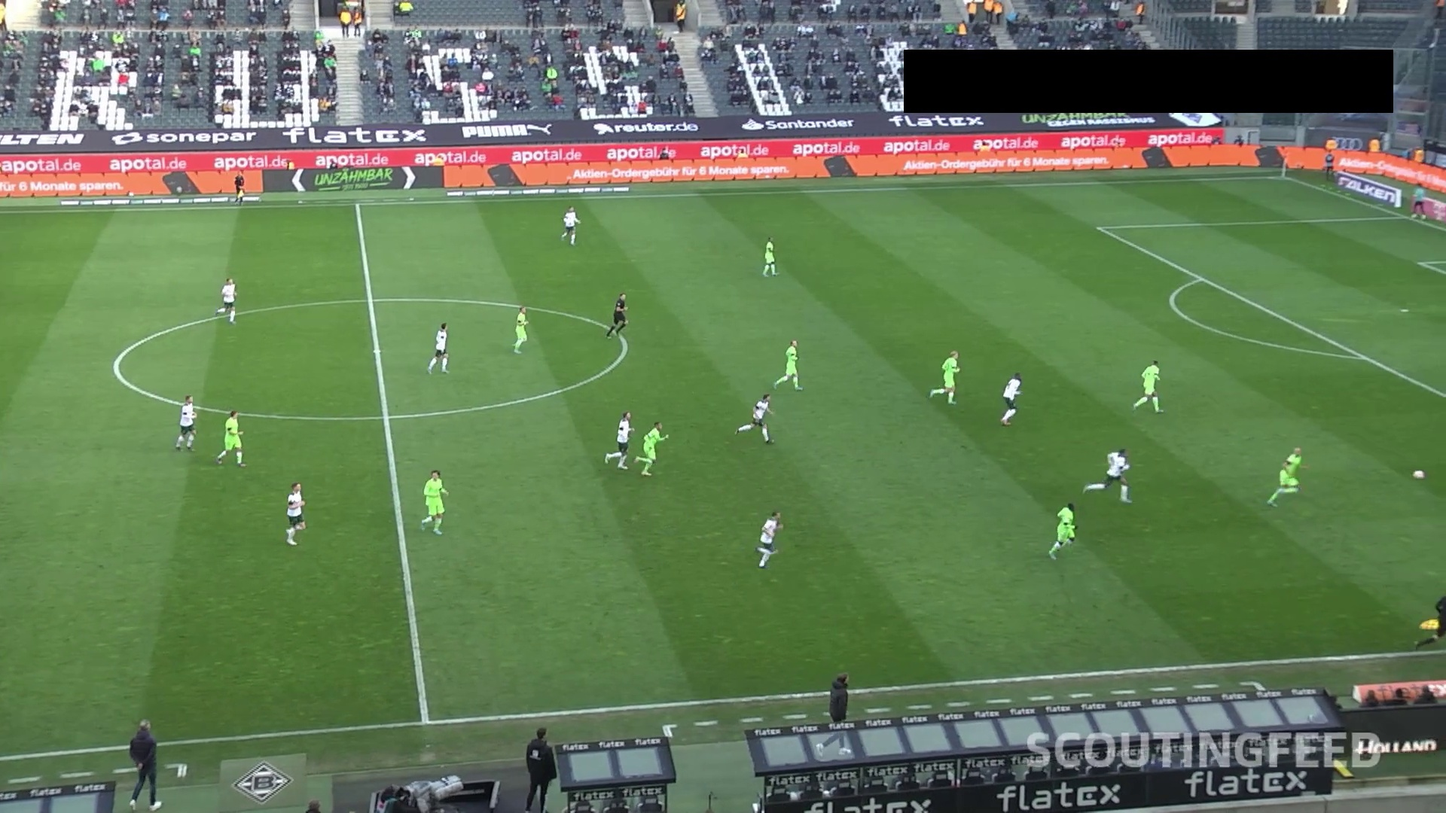ball: (1215, 520, 1244, 537)
player: (831, 203, 904, 285), (137, 220, 210, 301), (542, 285, 615, 366), (325, 447, 398, 528), (470, 528, 542, 610), (224, 163, 296, 244), (398, 163, 470, 244), (615, 244, 687, 325), (687, 187, 759, 268), (976, 285, 1048, 366), (1121, 366, 1193, 447)
referee: (513, 179, 586, 260)
